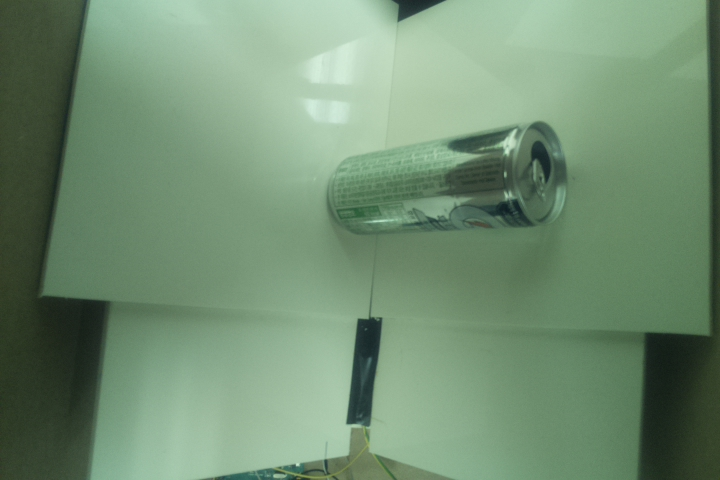can: (324, 118, 575, 239)
